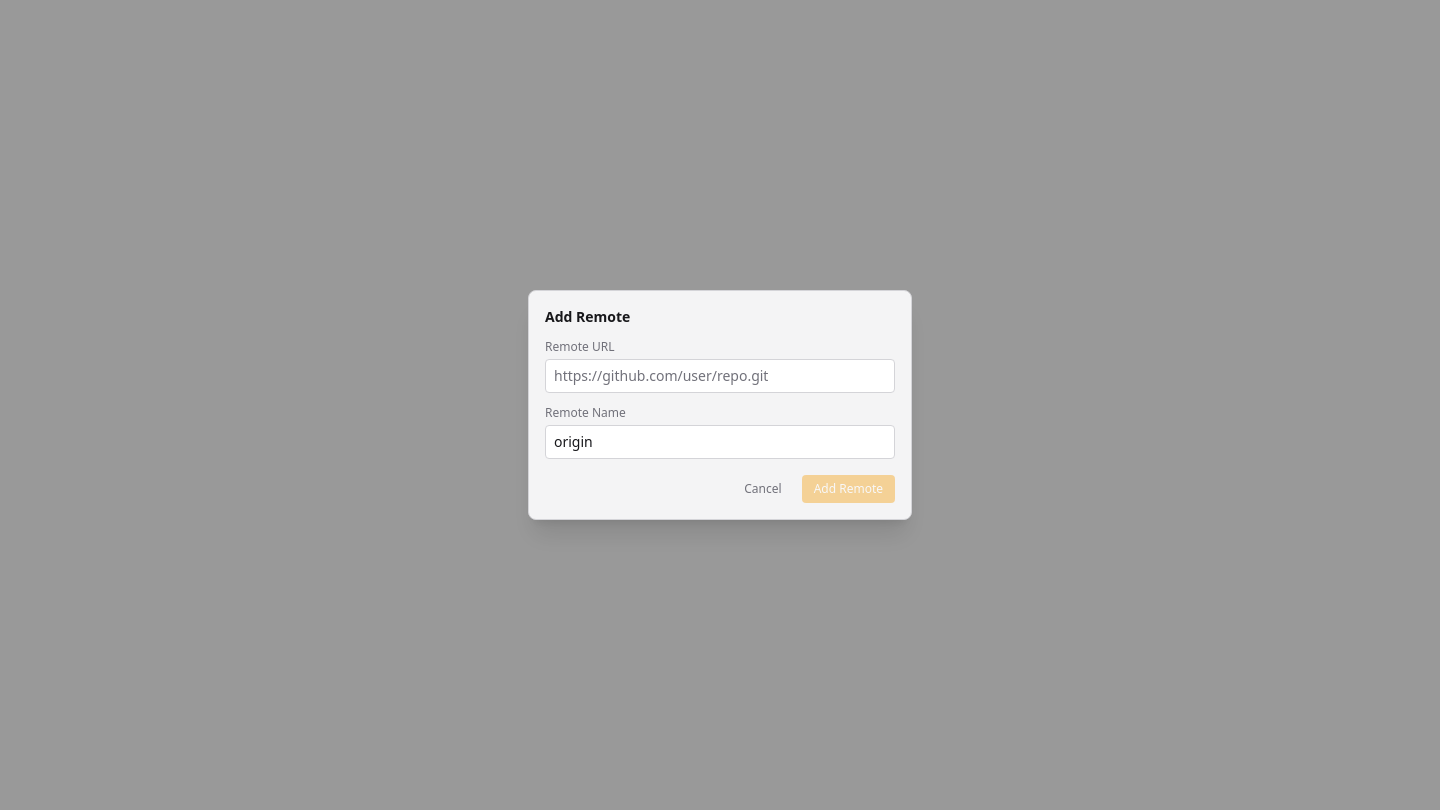
Test: AddRemoteDialog › validates remote name characters
In the field with test id "add-remote-name": (720, 442) [545, 425, 895, 459], type "invalid name!"
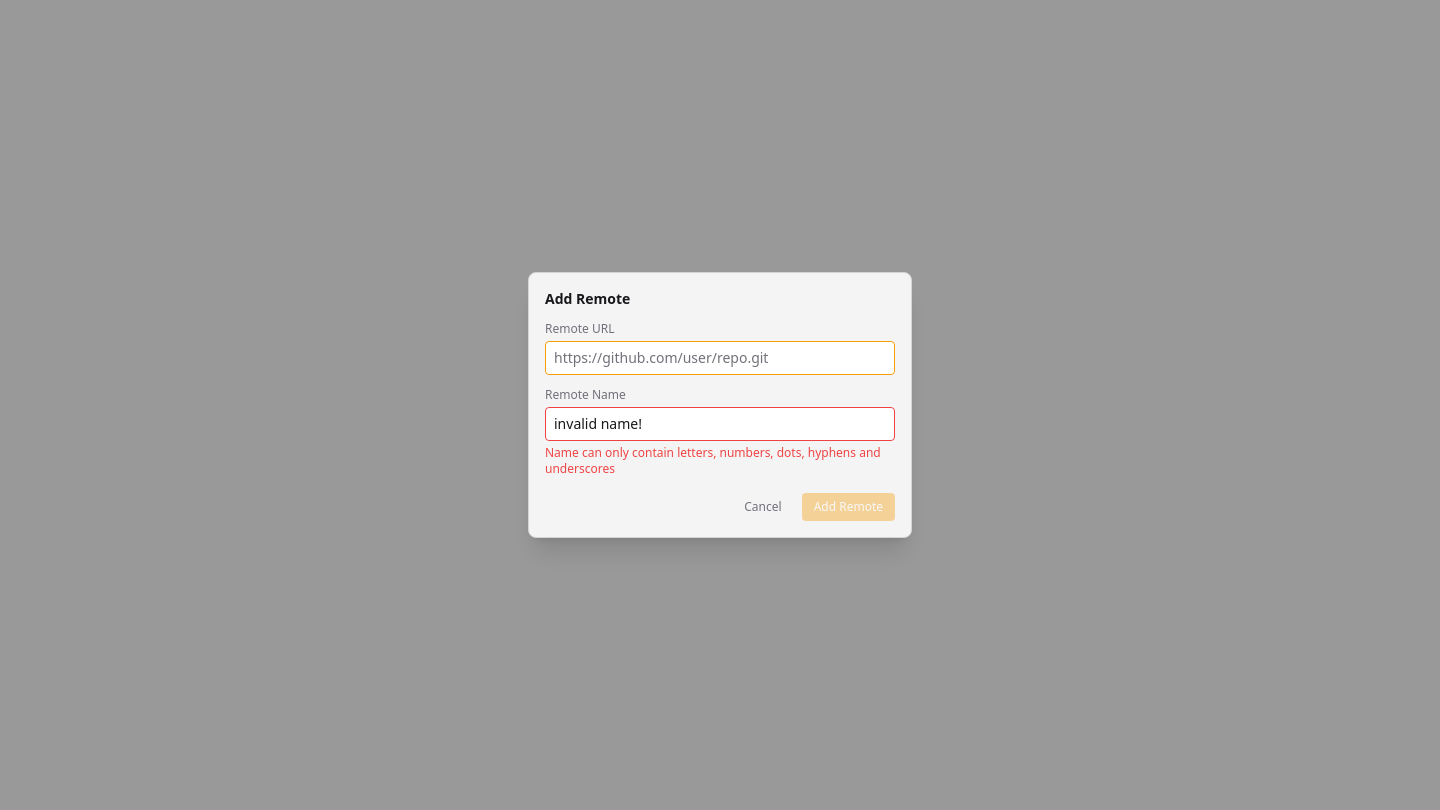
Now the text with test id "add-remote-name-error" is shown, box [545, 445, 895, 477]
